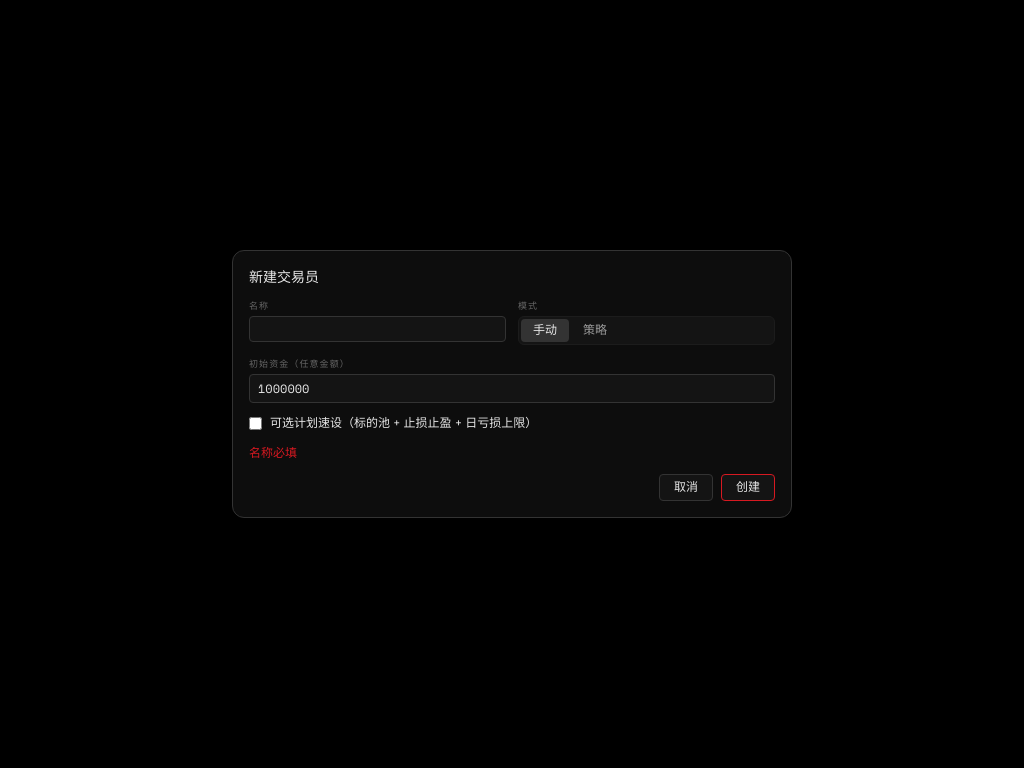
创建/编辑对话框（01 §4.10〔v2 新增〕） › 名称必填：空名称阻止提交
The width and height of the screenshot is (1024, 768).
expect the button "创建" is disabled: met, box x1=721 y1=474 x2=775 y2=502
In the field labelled "名称": (378, 329) x1=249 y1=316 x2=506 y2=342, type "Gamma"
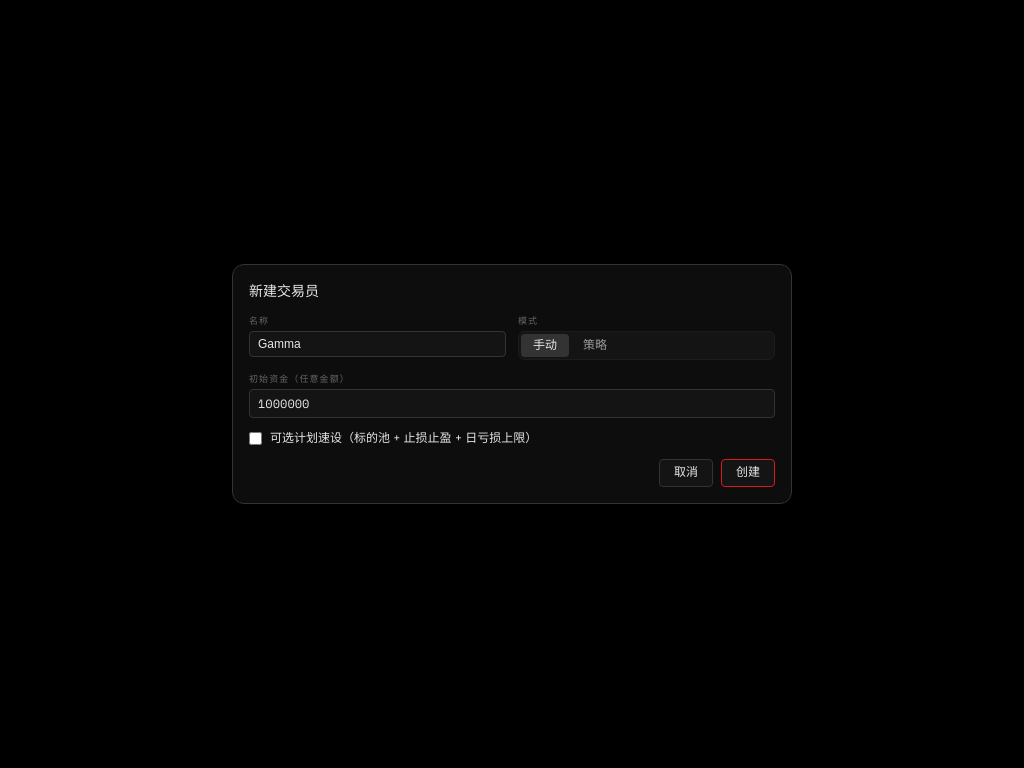
expect the button "创建" is enabled: met, box x1=721 y1=459 x2=775 y2=487
